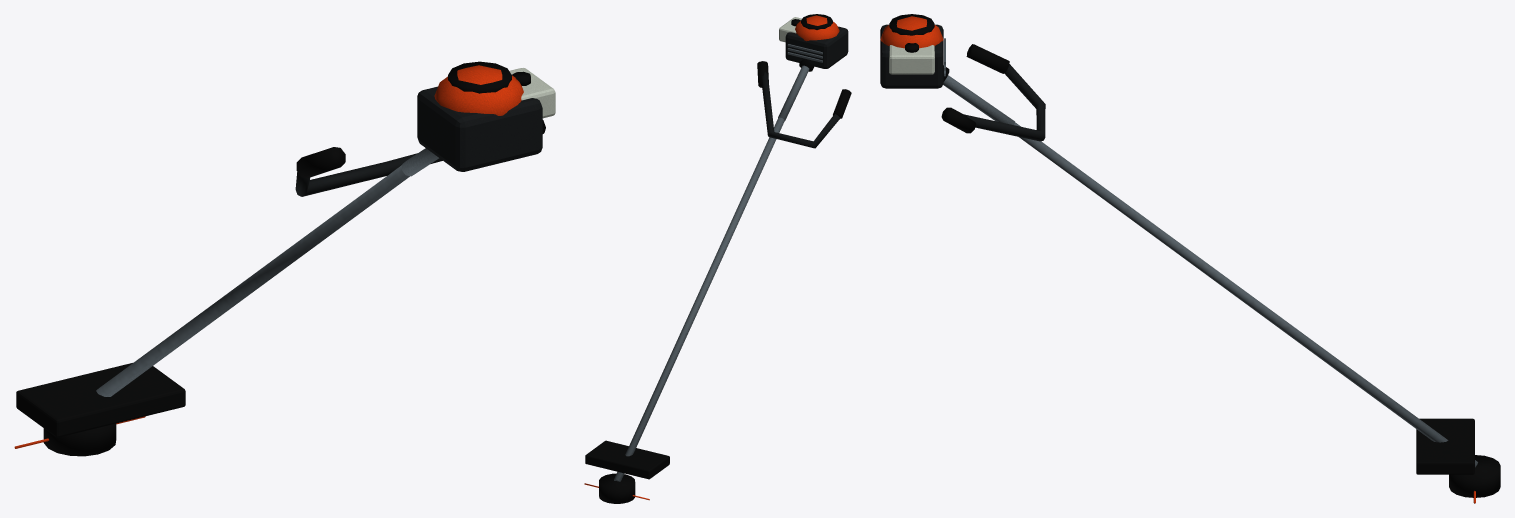
Rendered from StraightShaftTrimmer.gltf.
The picture shows the model from 3 angles, left to right: view 1: azimuth 30°, elevation 25°; view 2: azimuth 150°, elevation 25°; view 3: azimuth 270°, elevation 25°; orthographic projection. The views are drawn at different scales.
Parts seen in each view (by area): view 1: StraightShaftTrimmer__Body, StraightShaftTrimmer__Spool; view 2: StraightShaftTrimmer__Body, StraightShaftTrimmer__Spool; view 3: StraightShaftTrimmer__Body, StraightShaftTrimmer__Spool.
Part boxes in pixels (<box>): StraightShaftTrimmer__Body: <box>14,61,555,448</box>; StraightShaftTrimmer__Spool: <box>43,423,116,456</box>; StraightShaftTrimmer__Body: <box>584,14,851,500</box>; StraightShaftTrimmer__Spool: <box>599,473,635,503</box>; StraightShaftTrimmer__Body: <box>880,14,1477,503</box>; StraightShaftTrimmer__Spool: <box>1449,455,1500,497</box>.
Bounding box in the file's own units: 0.4056 × 1.23 × 1.48.
1 material, 1 textured.
